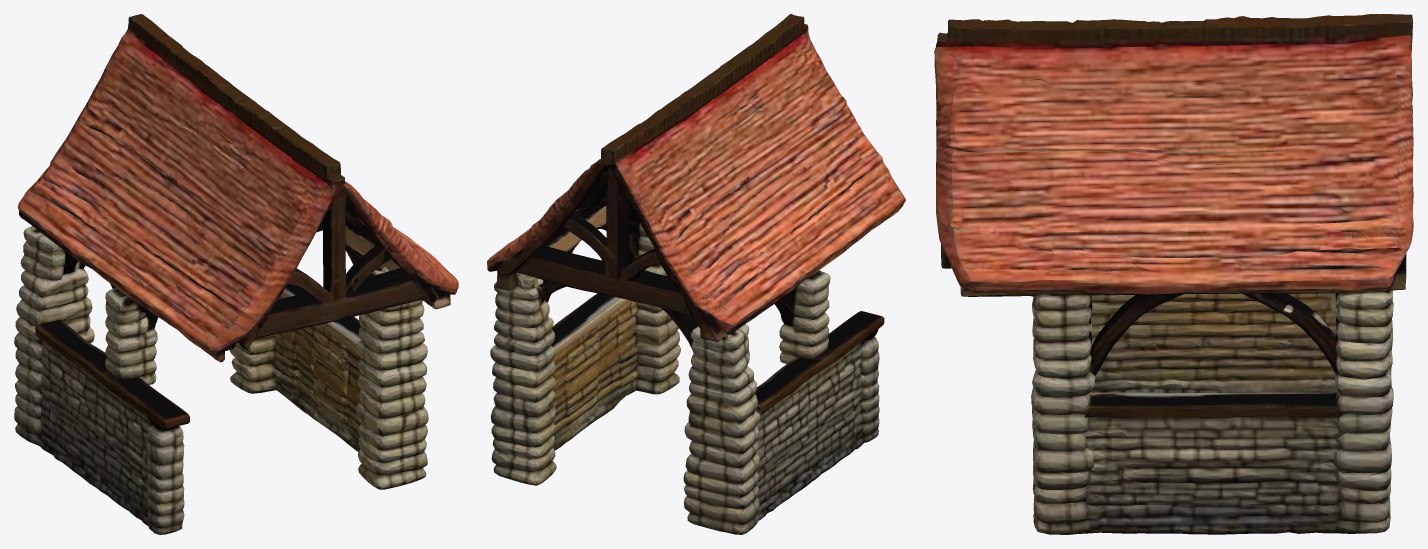
File: blacksmith_forge_01.glb
The picture shows the model from 3 angles, left to right: view 1: azimuth 30°, elevation 25°; view 2: azimuth 150°, elevation 25°; view 3: azimuth 270°, elevation 25°; orthographic projection. The views are drawn at different scales.
Visible parts, largest first — view 1: geometry_0; view 2: geometry_0; view 3: geometry_0.
Part boxes in pixels (box(x1,y1,x2,y2)): geometry_0: box(14, 14, 458, 534); geometry_0: box(487, 14, 905, 534); geometry_0: box(934, 14, 1413, 534).
Bounding box in the file's own units: 0.7496 × 1 × 0.9761.
Materials: 1 (1 with a texture image).
